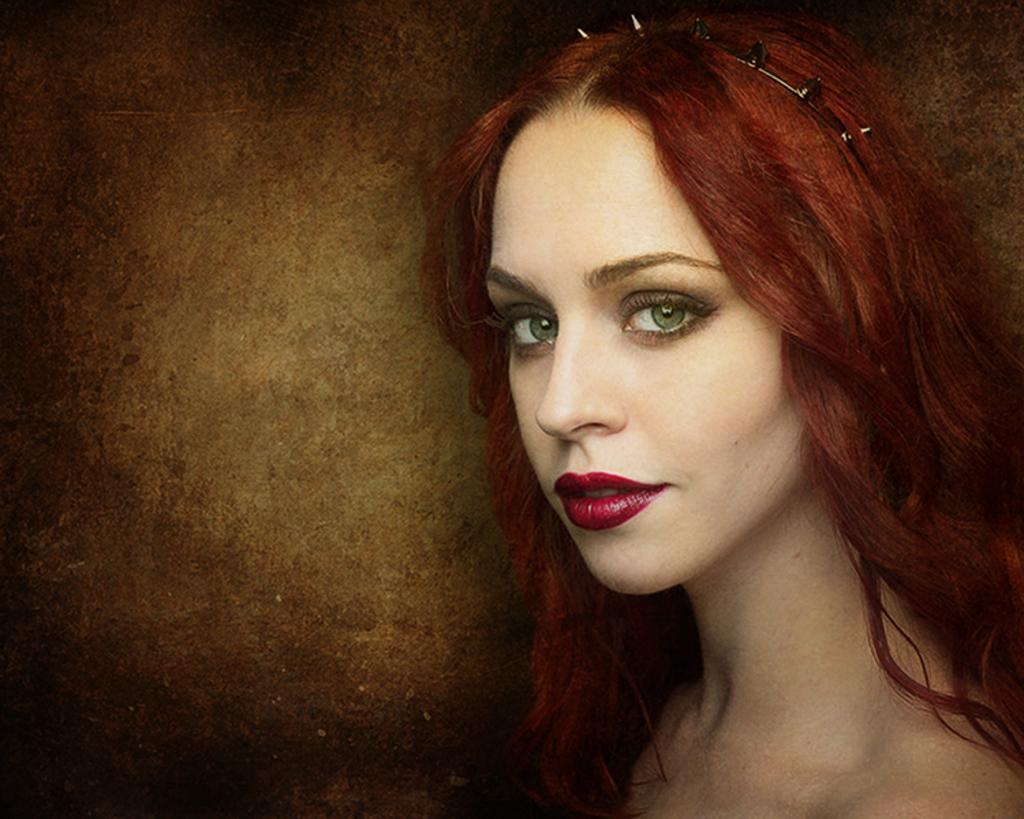Sem Máscara: (480, 108, 821, 594)
